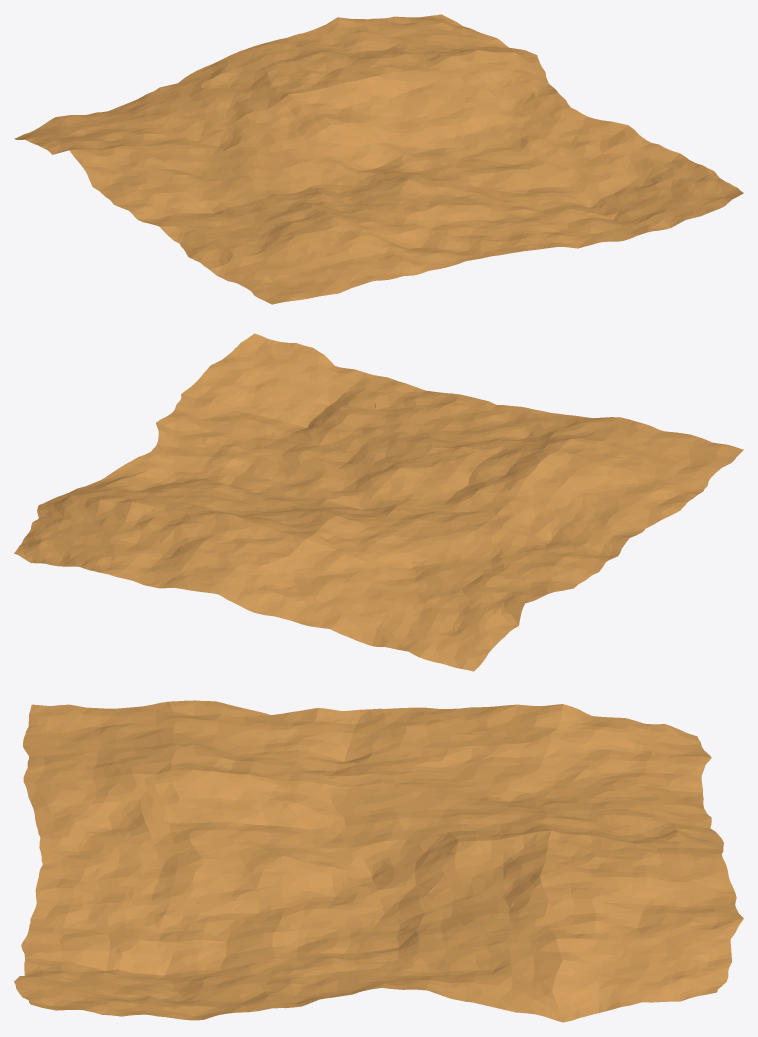
Rendered from result.gltf.
The picture shows the model from 3 angles, top to bottom: view 1: azimuth 30°, elevation 25°; view 2: azimuth 150°, elevation 25°; view 3: azimuth 270°, elevation 25°; orthographic projection. The views are drawn at different scales.
Parts seen in each view (by area): view 1: Environment_1; view 2: Environment_1; view 3: Environment_1.
Part boxes in pixels (left/top/right/bottom): Environment_1: left=14, top=14, right=743, bottom=304; Environment_1: left=14, top=333, right=743, bottom=671; Environment_1: left=14, top=700, right=743, bottom=1022.
Size of the model in its own units: 2142 by 174 by 2155.
